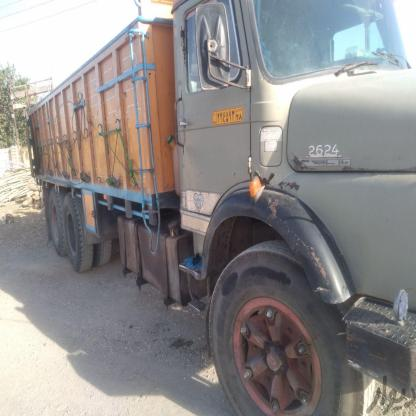Truck: (24, 0, 416, 410)
